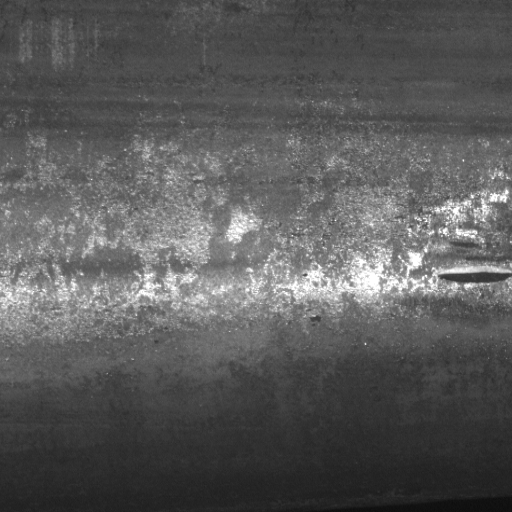aokeng: (435, 268, 512, 286)
